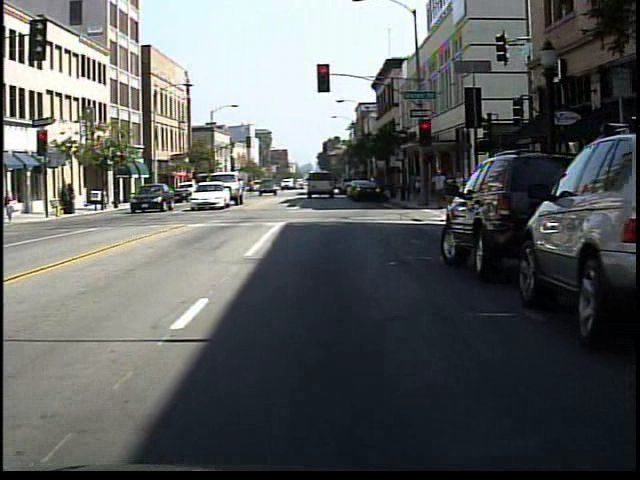person: (430, 166, 450, 208), (444, 168, 460, 209), (242, 173, 260, 202)
